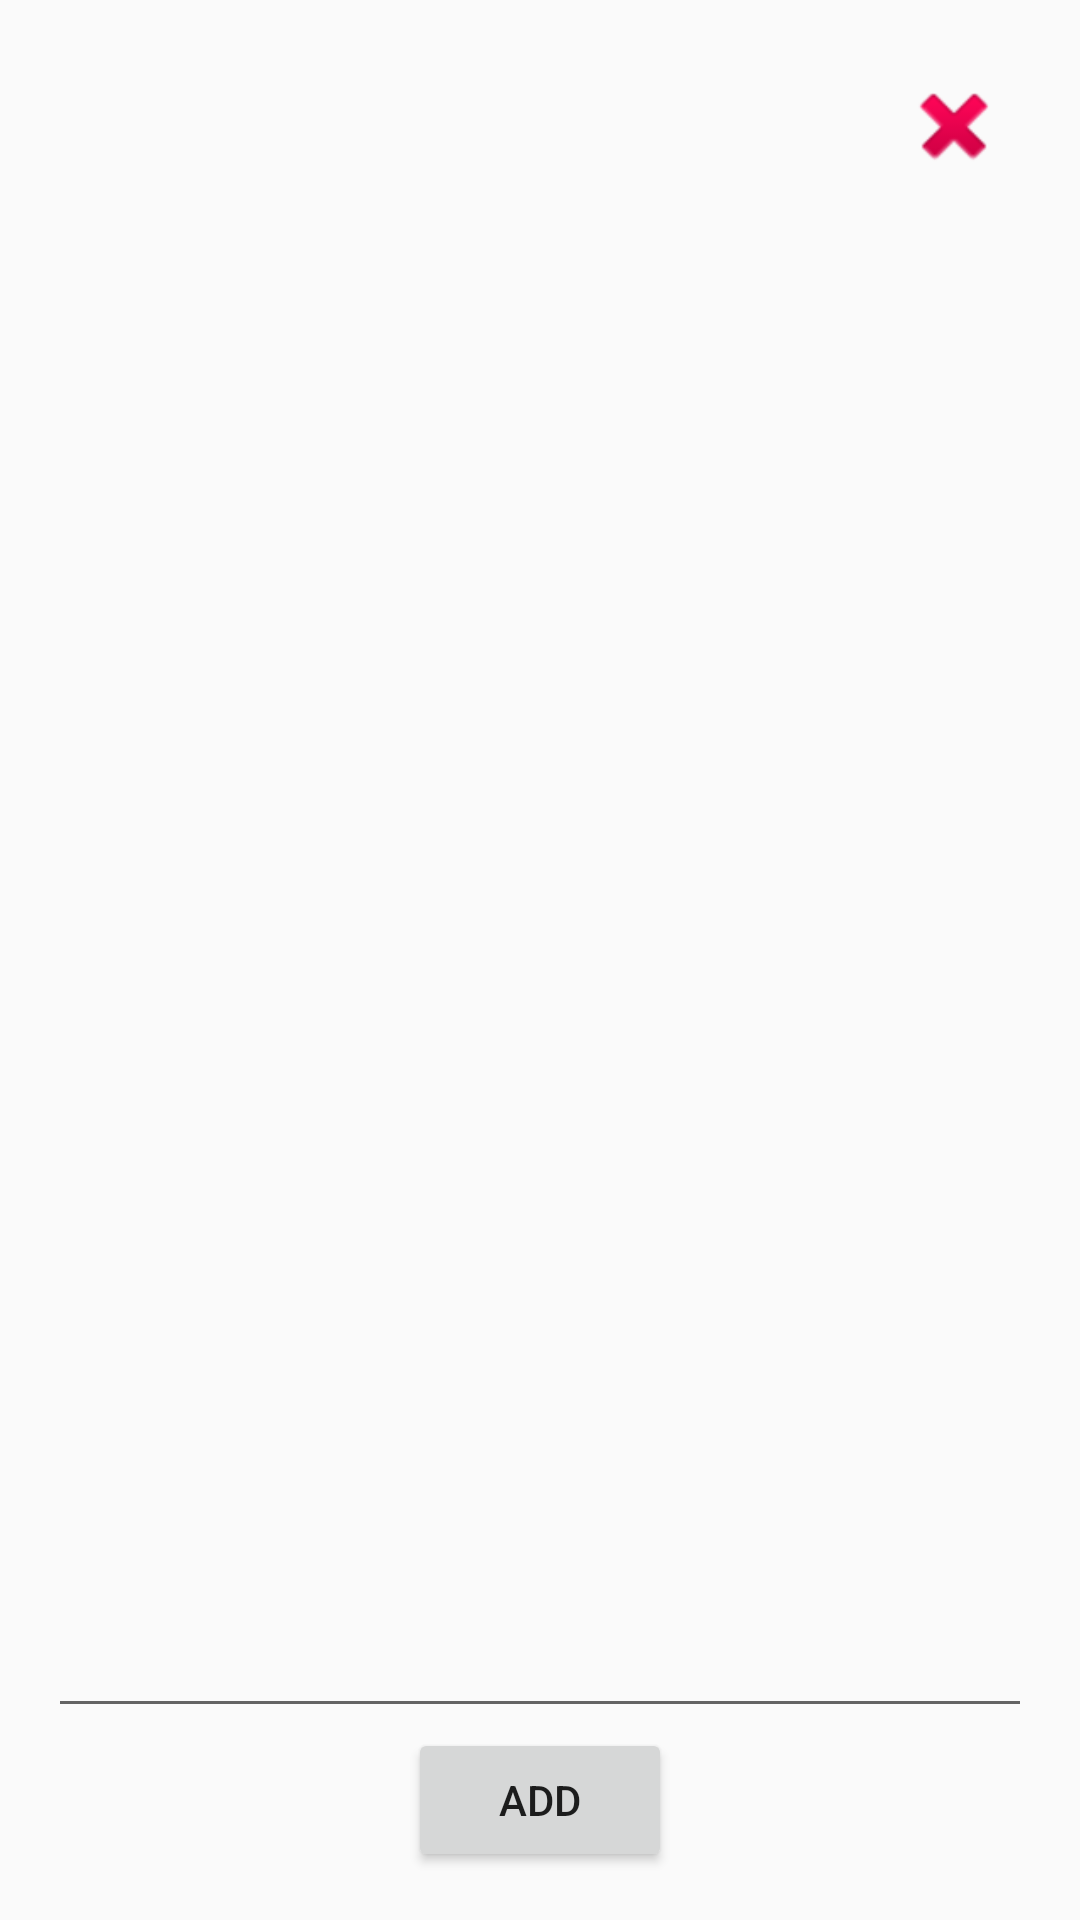

Icons on this 1080×1920 Android screen, each with the point to tap as [x,y]:
Close dialog: [954,126]
